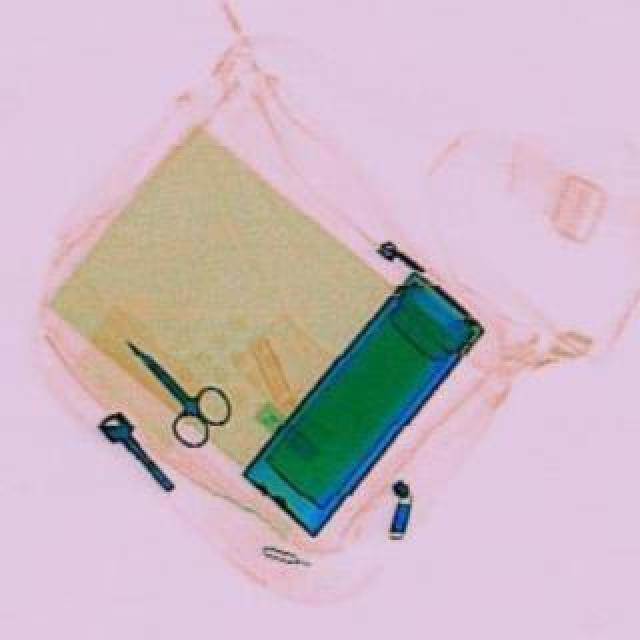pliers: (104, 322, 248, 460)
